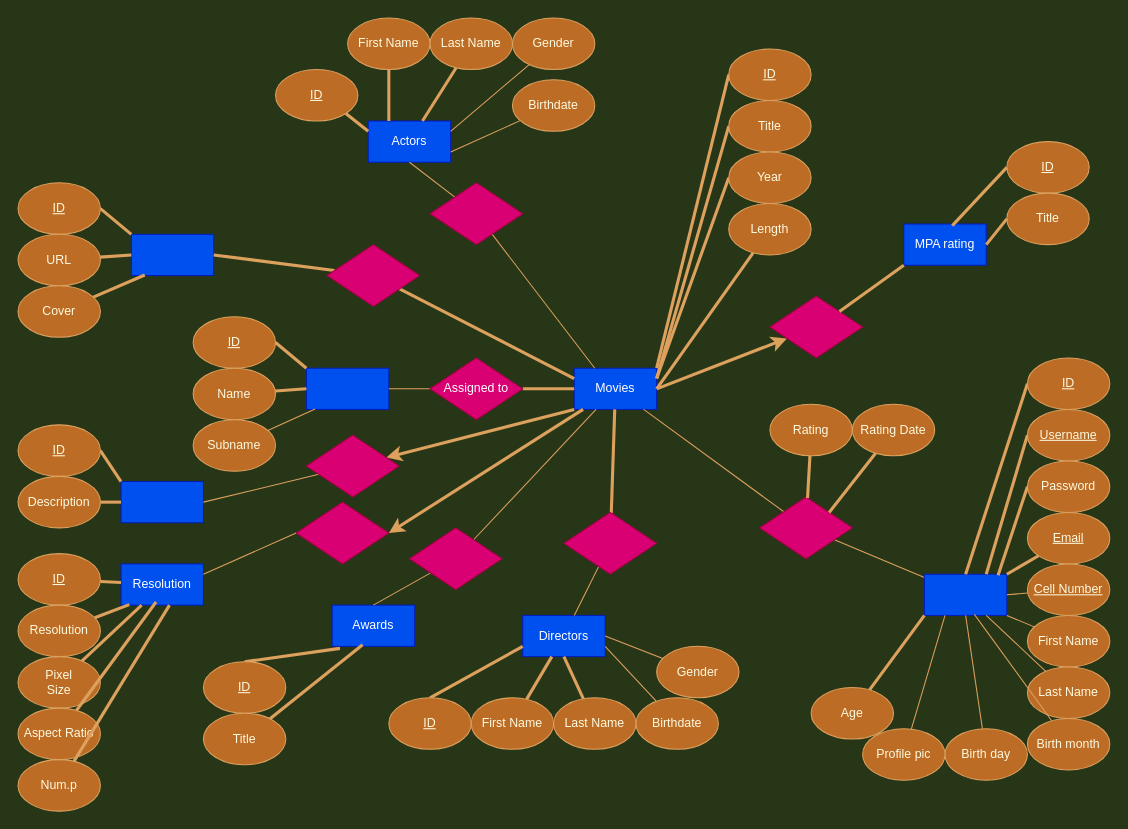
This 1128x829 diagram has some shape labels left out. Each missing label, with the centre of its shape:
Act in: point 476,213
Awarded: point 455,558
Directs: point 610,542
Feature: point 373,275
Format: point 161,501
Genres: point 347,388
Gov Rating: point 816,326
has extension: point 352,465
Is sized: point 342,532
Rated: point 805,527
Trailers: point 172,254
Users: point 965,594
